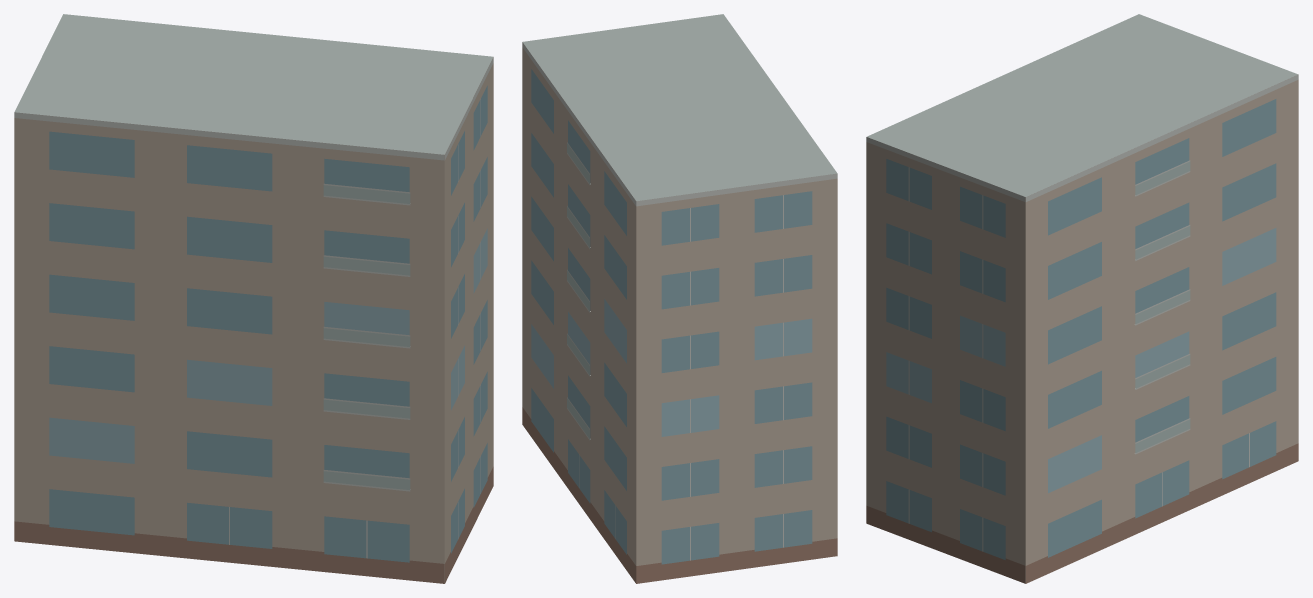
File: survey-upis-32518211.glb
The picture shows the model from 3 angles, left to right: view 1: azimuth 30°, elevation 25°; view 2: azimuth 150°, elevation 25°; view 3: azimuth 270°, elevation 25°; orthographic projection. The views are drawn at different scales.
Parts seen in each view (by area): view 1: survey-upis-32518211.tmp; view 2: survey-upis-32518211.tmp; view 3: survey-upis-32518211.tmp.
Part boxes in pixels (left/top/right/bottom): survey-upis-32518211.tmp: left=14, top=14, right=493, bottom=583; survey-upis-32518211.tmp: left=522, top=14, right=837, bottom=583; survey-upis-32518211.tmp: left=866, top=14, right=1298, bottom=583.
Bounding box in the file's own units: 18.59 × 18.3 × 18.54.
